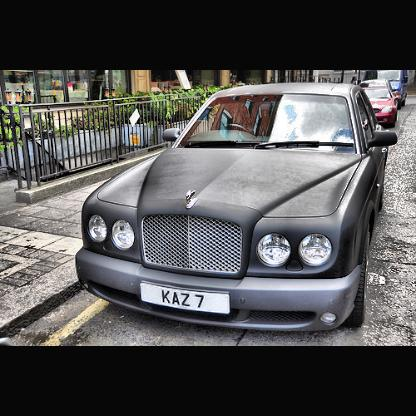Bentley Arnage Sedan 2009: (76, 85, 400, 332)
